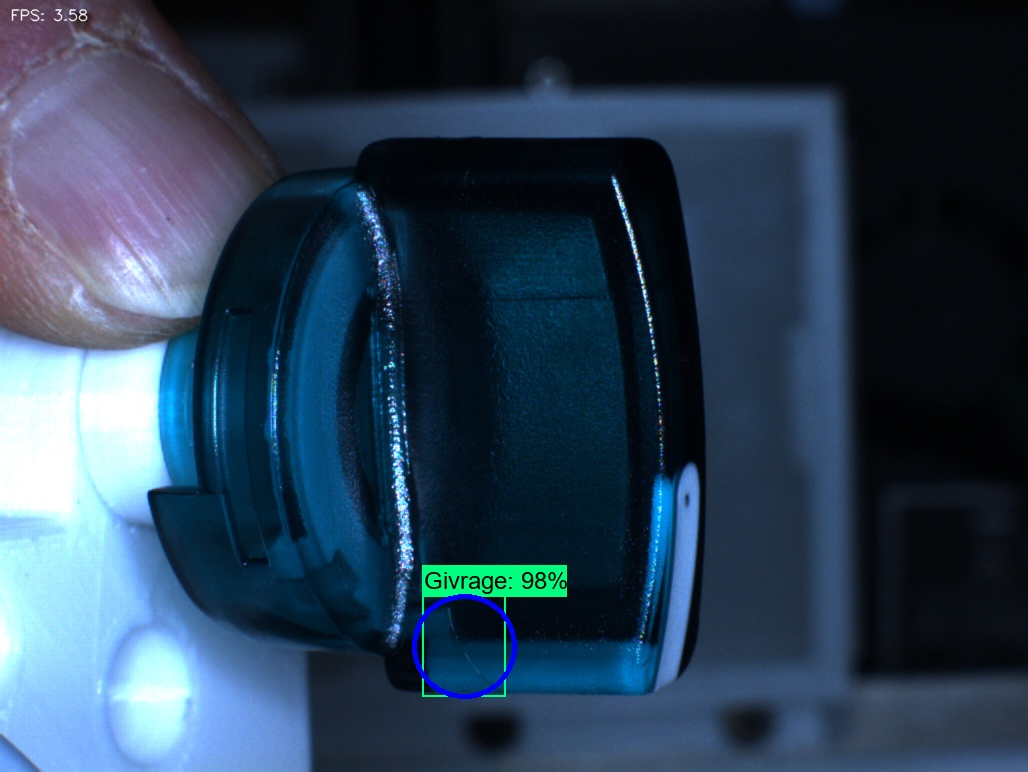PointNoir: (637, 433, 739, 548)
